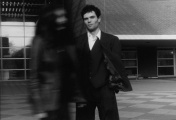male: (78, 3, 108, 38)
